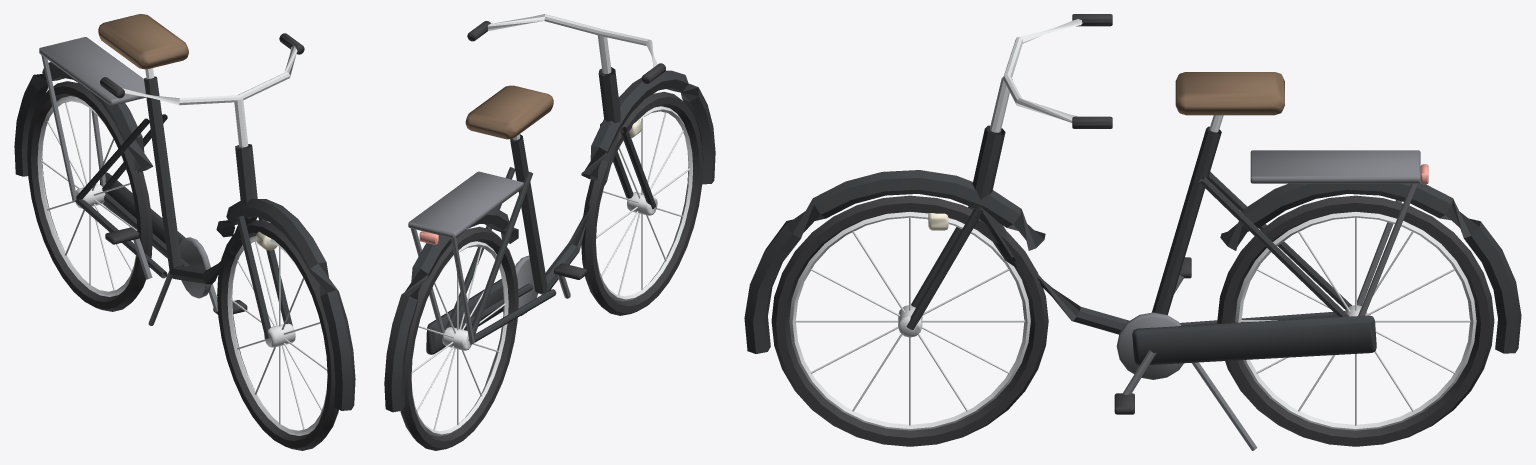
Rendered from bicycle_b.glb.
3 renders of one model, left to right at view 1: azimuth 30°, elevation 25°; view 2: azimuth 150°, elevation 25°; view 3: azimuth 270°, elevation 25°, orthographic. The views are drawn at different scales.
Visible parts, largest first — view 1: Body; view 2: Body; view 3: Body.
Boxes of the visible parts, box(x1,y1,x2,y2) form: Body: box(14, 14, 355, 450); Body: box(384, 14, 715, 450); Body: box(744, 14, 1521, 450).
Bounding box in the file's own units: 0.6304 × 1.04 × 1.92.
